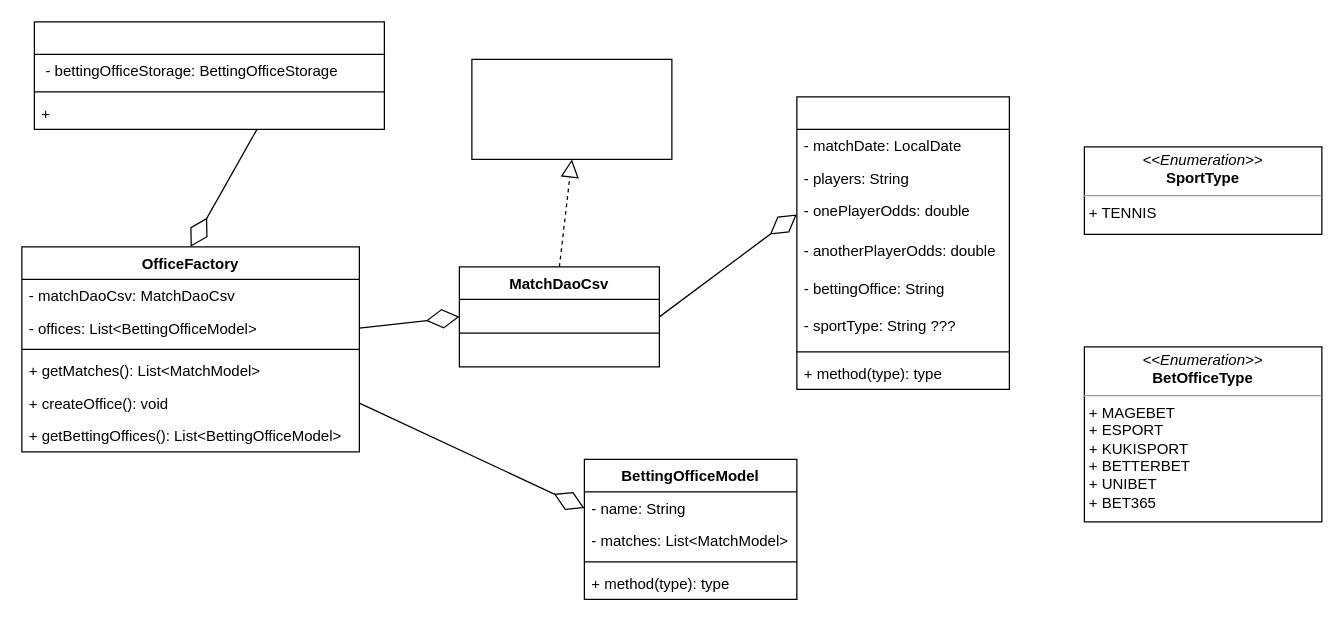
Some shapes in this 1344 by 625 pixel diagram are drawn without their labels. Here are the shapes that lost their labels. From the top down, the box of each, then its label:
(33, 21, 384, 129): Controller
(471, 58, 672, 159): <<Interface>> DAO + getAll() + getById()
(796, 96, 1009, 389): MatchModel
